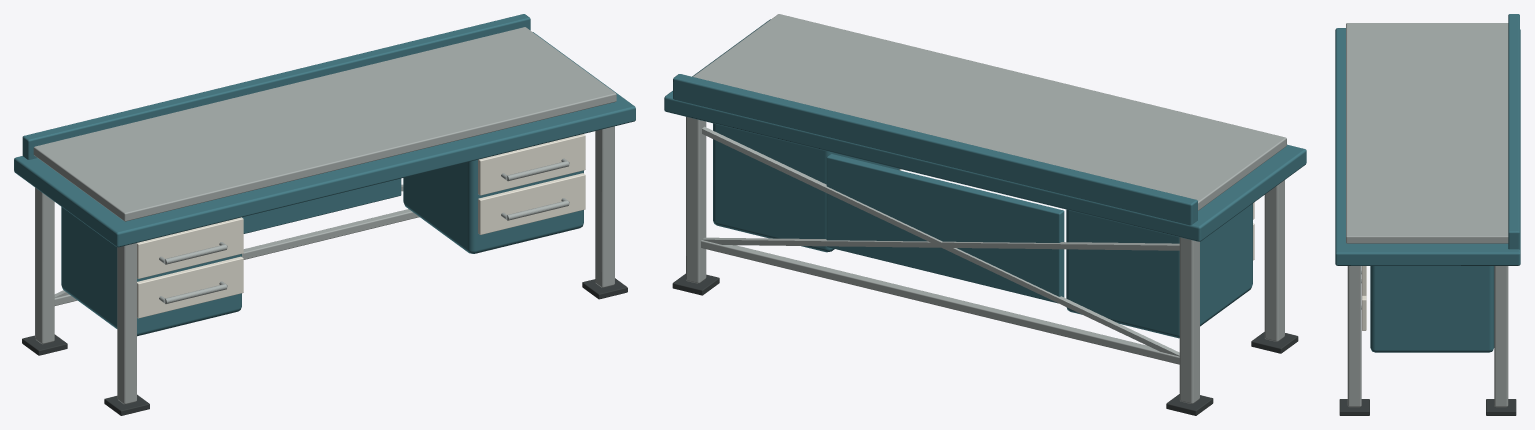
The model's file is optician-and-optical-lens-workshop-optician-and-optica-3fe9aa80__31691.glb.
3 views of the same model, side by side, from view 1: azimuth 30°, elevation 25°; view 2: azimuth 150°, elevation 25°; view 3: azimuth 270°, elevation 25° (orthographic). The views are drawn at different scales.
Visible parts, largest first — view 1: optician-and-optical-lens-workshop-optical-workshop-bench; view 2: optician-and-optical-lens-workshop-optical-workshop-bench; view 3: optician-and-optical-lens-workshop-optical-workshop-bench.
Boxes of the visible parts, x1,y1,x2,y2 form: optician-and-optical-lens-workshop-optical-workshop-bench: [14, 14, 635, 415]; optician-and-optical-lens-workshop-optical-workshop-bench: [664, 14, 1306, 415]; optician-and-optical-lens-workshop-optical-workshop-bench: [1335, 14, 1520, 415].
Size of the model in its own units: 2.48 by 0.94 by 0.8599.
